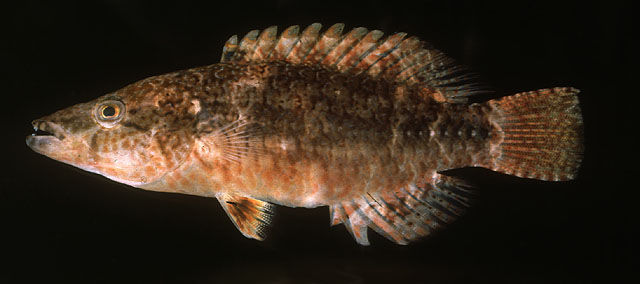fish: (26, 23, 584, 247)
